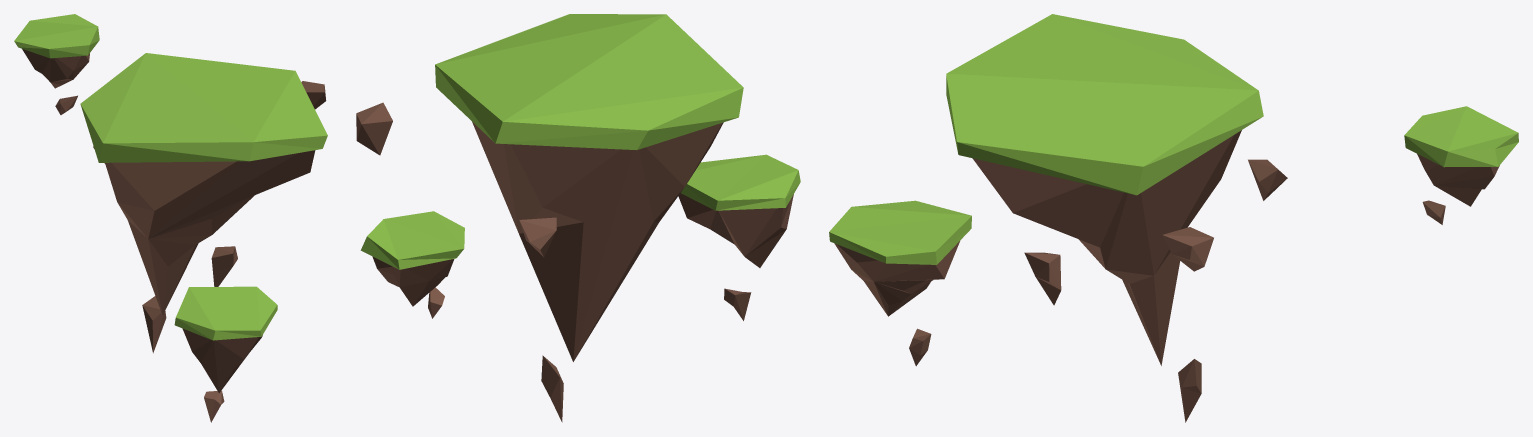
Rendered from floating-little-islands.glb.
The picture shows the model from 3 angles, left to right: view 1: azimuth 30°, elevation 25°; view 2: azimuth 150°, elevation 25°; view 3: azimuth 270°, elevation 25°; orthographic projection. The views are drawn at different scales.
Parts seen in each view (by area): view 1: group1810082506, group1651290667, group1493570185, group1035743550, group694142508, group615116044, group1061609037, group1094615483, group698118262, group575109798; view 2: group1810082506, group1651290667, group1493570185, group1035743550, group694142508, group615116044, group698118262, group1441309711, group1094615483, group575109798; view 3: group1810082506, group1651290667, group1493570185, group1035743550, group694142508, group615116044, group698118262, group1061609037, group1094615483, group1441309711.
Part boxes in pixels (<box>): group1810082506: <box>80,53,327,162</box>; group1651290667: <box>105,150,315,315</box>; group1493570185: <box>174,286,277,340</box>; group1035743550: <box>14,14,99,58</box>; group694142508: <box>182,328,262,393</box>; group615116044: <box>22,49,89,88</box>; group1061609037: <box>211,246,237,286</box>; group1094615483: <box>142,296,166,353</box>; group698118262: <box>301,81,326,109</box>; group575109798: <box>204,390,224,422</box>; group1810082506: <box>435,14,743,149</box>; group1651290667: <box>472,122,723,361</box>; group1493570185: <box>681,154,800,210</box>; group1035743550: <box>360,211,464,269</box>; group694142508: <box>678,193,793,267</box>; group615116044: <box>372,256,454,306</box>; group698118262: <box>356,102,392,155</box>; group1441309711: <box>519,217,556,256</box>; group1094615483: <box>541,355,563,422</box>; group575109798: <box>724,288,751,320</box>; group1810082506: <box>946,14,1263,195</box>; group1651290667: <box>972,130,1241,365</box>; group1493570185: <box>829,200,971,264</box>; group1035743550: <box>1404,106,1518,167</box>; group694142508: <box>834,241,959,316</box>; group615116044: <box>1417,154,1499,206</box>; group698118262: <box>1162,227,1213,271</box>; group1061609037: <box>1024,252,1061,305</box>; group1094615483: <box>1178,359,1201,422</box>; group1441309711: <box>1248,159,1287,200</box>.
Size of the model in its own units: 1.22 by 1.18 by 2.08.
